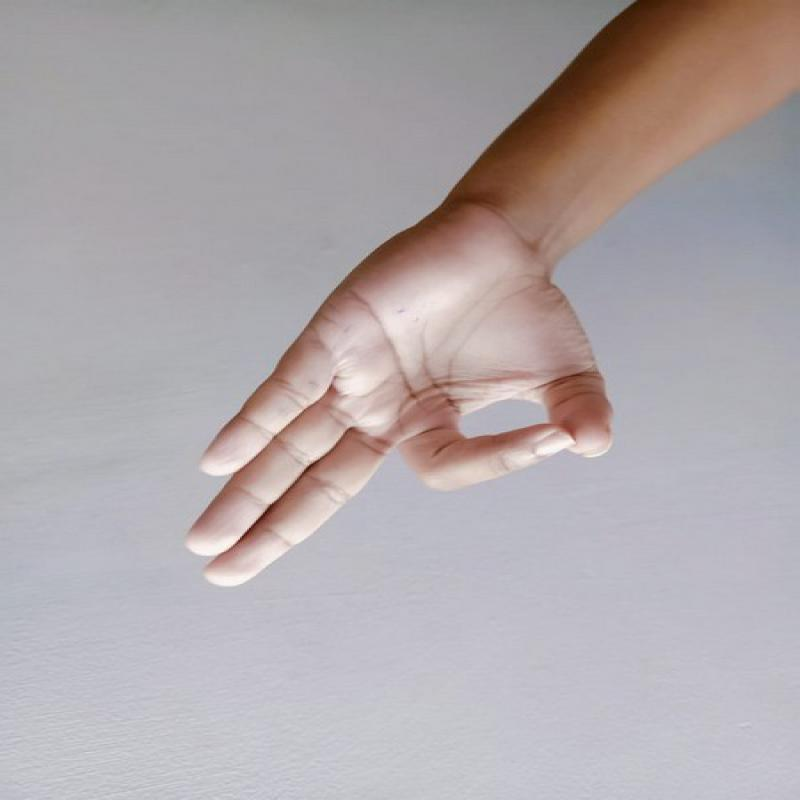Mudraakhyam: (172, 205, 629, 601)
